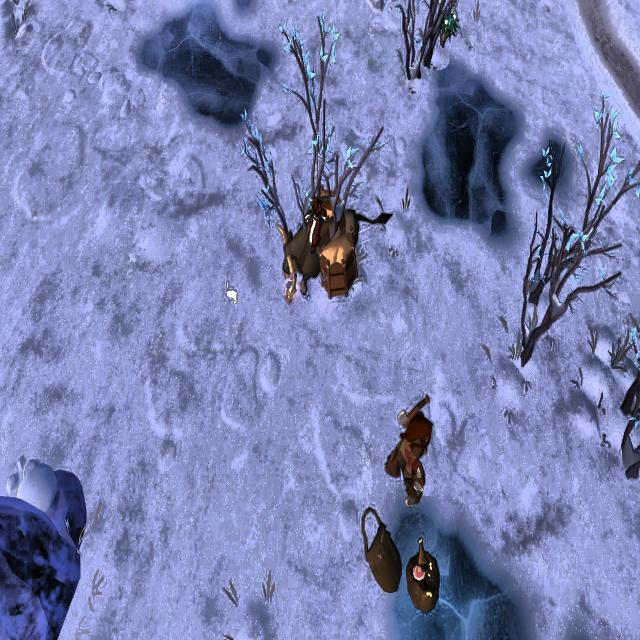fiber_t3: (436, 6, 460, 49)
